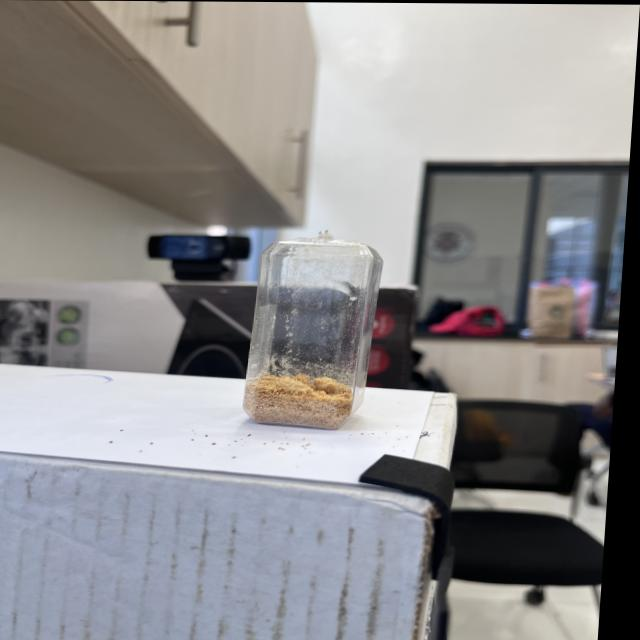garlic_powder: (253, 373, 362, 429)
